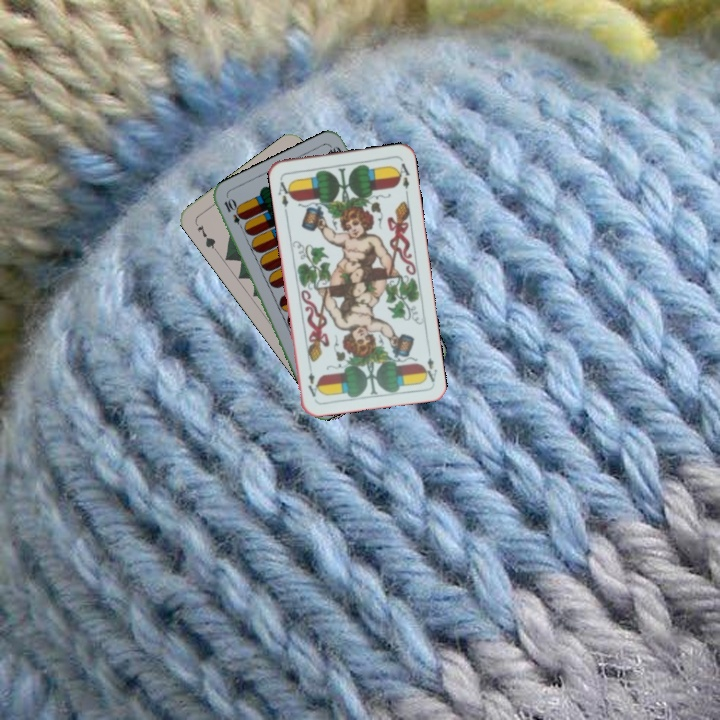E10: (220, 195, 247, 233)
EA: (274, 174, 295, 215), (419, 345, 440, 384)
G7: (191, 218, 220, 254)
